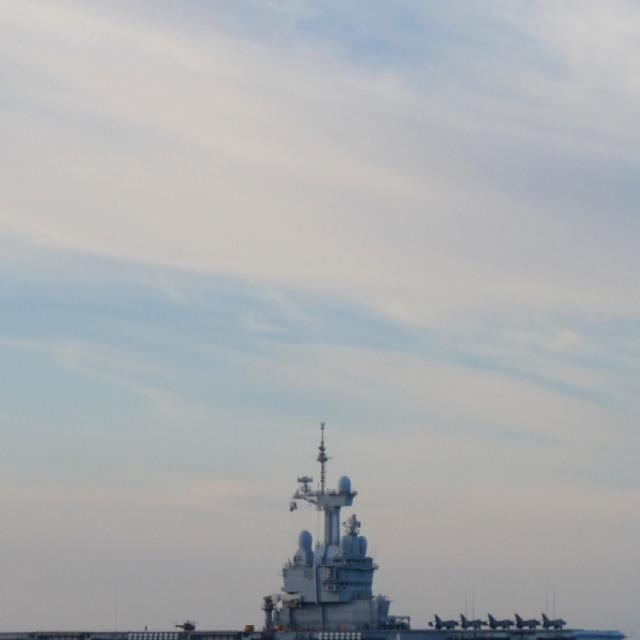Portanaves: (1, 416, 629, 640)
